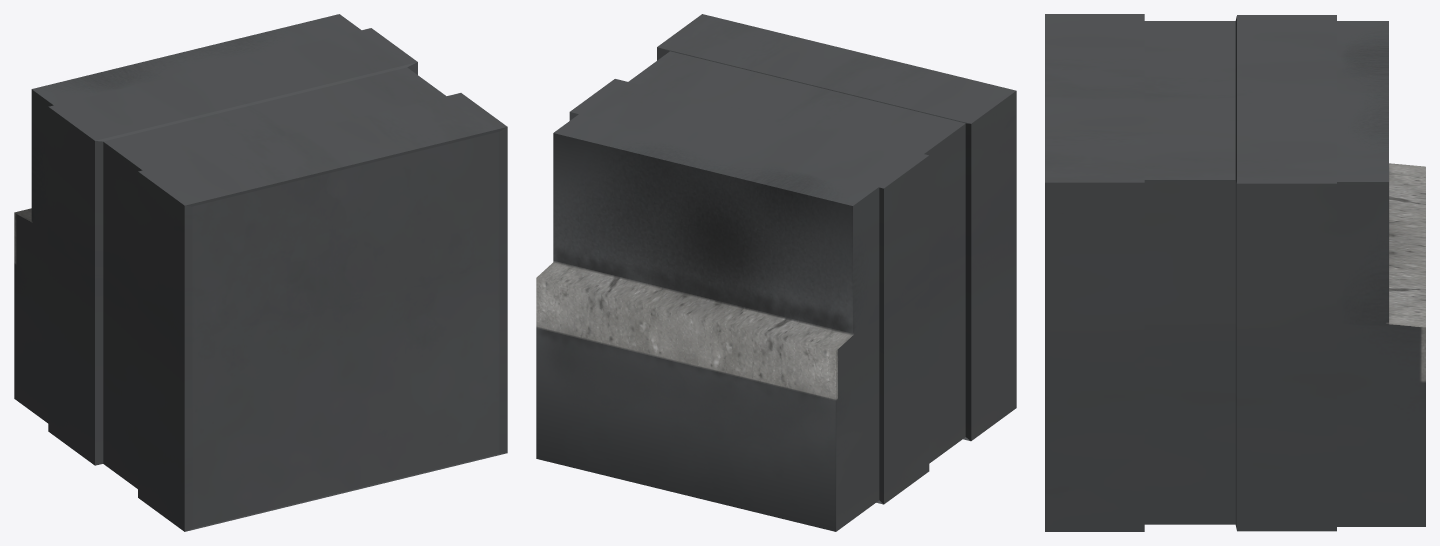
File: cubemod_bordillo.fbx
The picture shows the model from 3 angles, left to right: view 1: azimuth 30°, elevation 25°; view 2: azimuth 150°, elevation 25°; view 3: azimuth 270°, elevation 25°; orthographic projection. The views are drawn at different scales.
Visible parts, largest first — view 1: cube_bordillo; view 2: cube_bordillo; view 3: cube_bordillo.
Part boxes in pixels (left/top/right/bottom): cube_bordillo: left=14, top=14, right=507, bottom=531; cube_bordillo: left=536, top=14, right=1016, bottom=531; cube_bordillo: left=1045, top=14, right=1425, bottom=531.
Bounding box in the file's own units: 420 × 405 × 400.
1 material, 1 textured.
